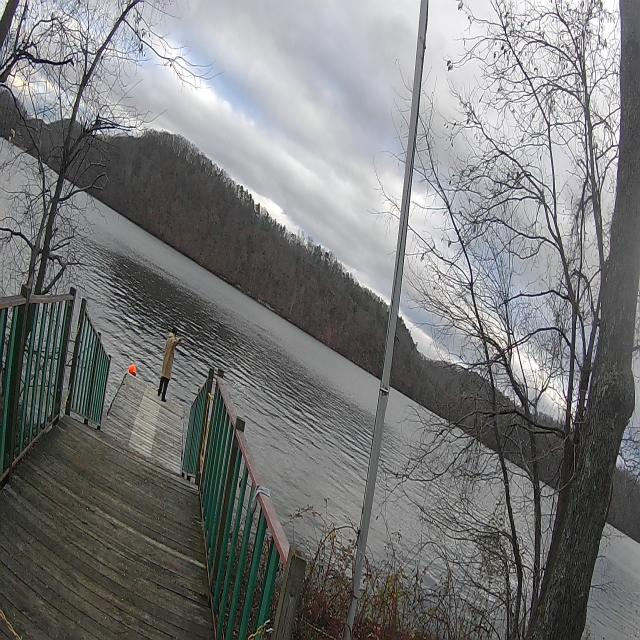Buoy: (127, 363, 139, 380)
